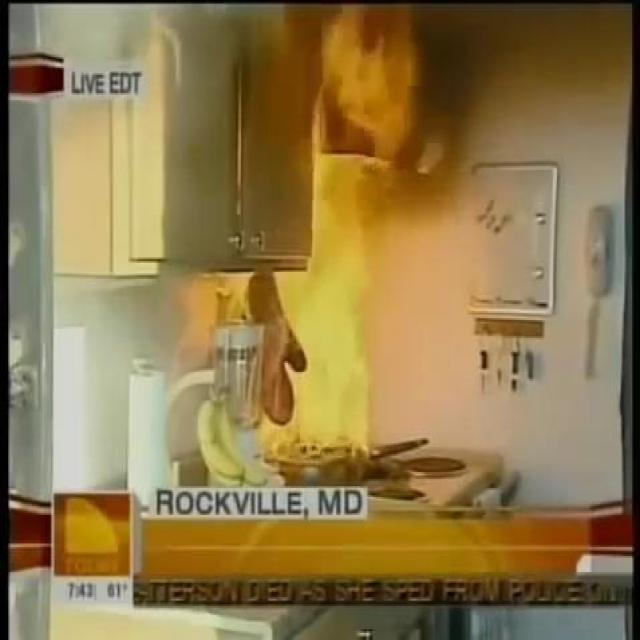fire: (262, 12, 452, 472)
